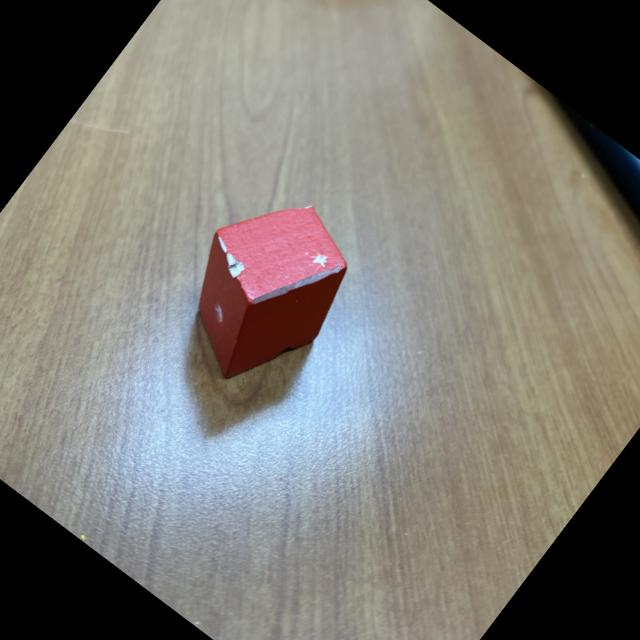broken: (148, 168, 379, 408)
